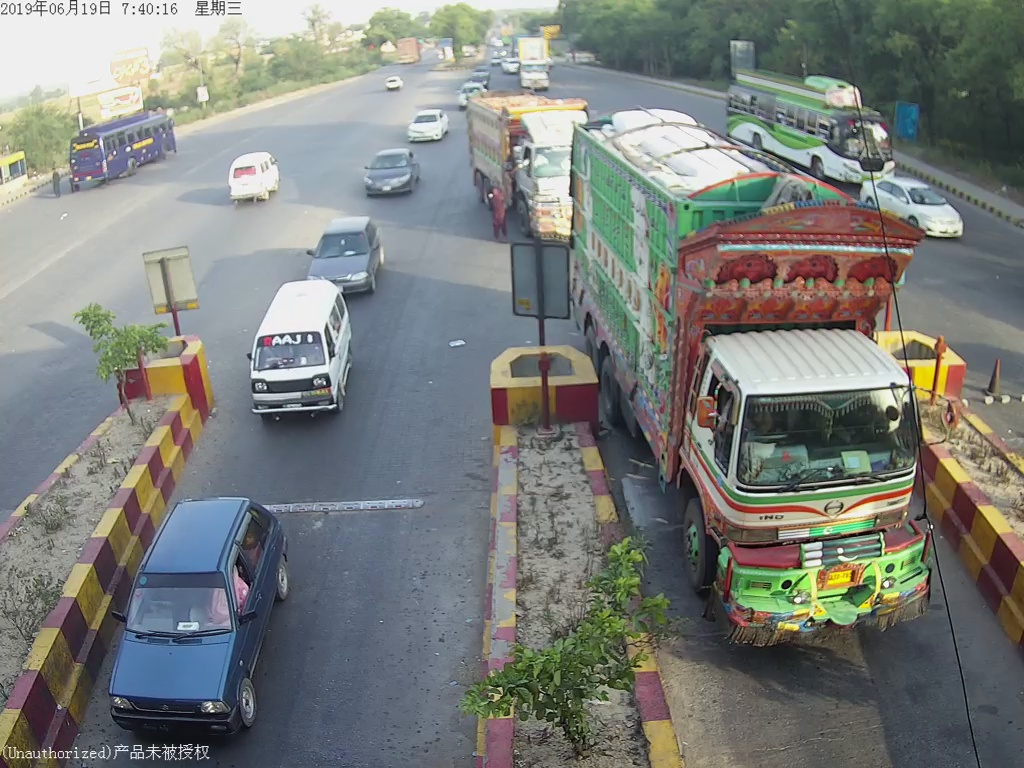Cat-1: (107, 506, 290, 732), (243, 274, 361, 417), (309, 223, 375, 268)
Cat-4: (556, 117, 946, 657)
